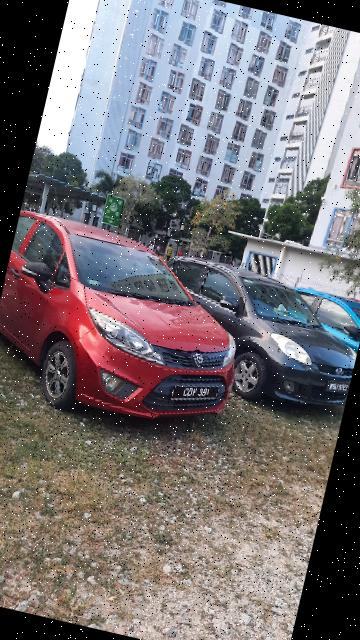License_Plate: (167, 374, 228, 412), (326, 378, 351, 403)
car: (1, 204, 269, 444), (139, 251, 360, 415)
